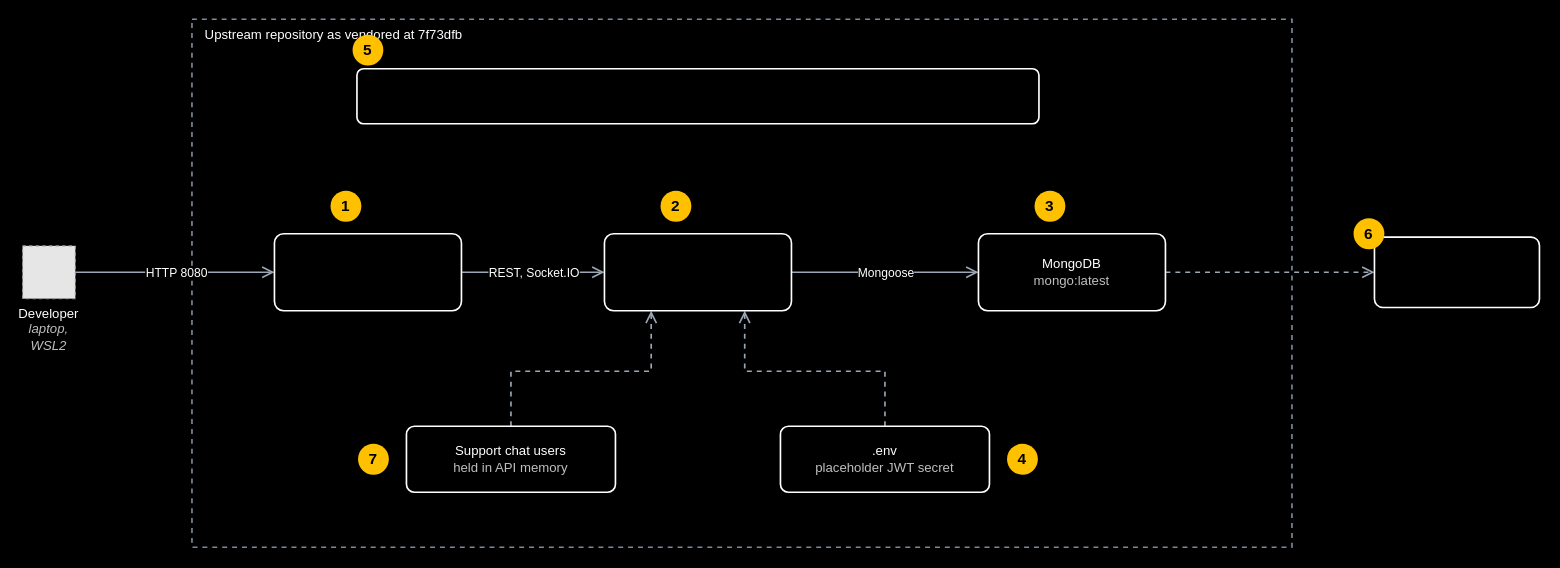
Some shapes in this 1560 by 568 pixel diagram are drawn without their labels. Grey dashed boxes stand in for pictures. The shapes that lost their labels are listed below. From the top down, each one's centre as x and y in pixels, then its label:
the point at 697,95: No tests, no pipeline, no health endpoint, no monitoring, no infrastructure code
the point at 367,271: React client webpack, Node 16
the point at 697,271: Express API Node 16, root user
the point at 1456,272: Port 27017 on all interfaces
